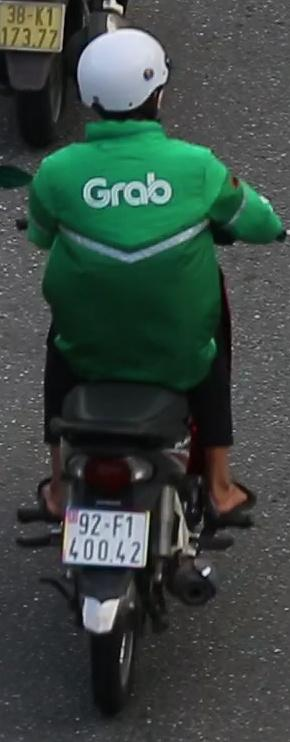LP: (59, 505, 153, 572)
helmet: (73, 23, 181, 143)
